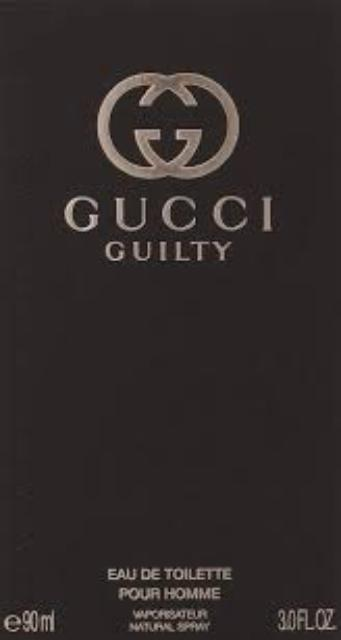Gucci: (46, 181, 292, 267), (82, 65, 248, 183)
